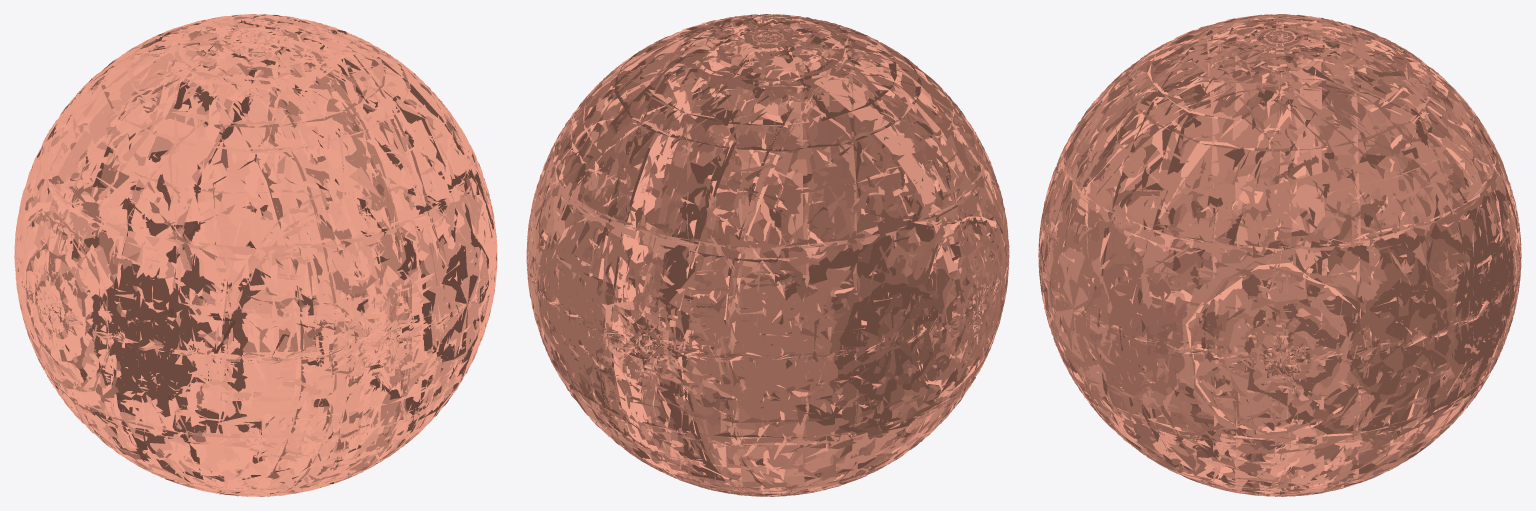
Rendered from sys-md-telecom.glb.
The picture shows the model from 3 angles, left to right: view 1: azimuth 30°, elevation 25°; view 2: azimuth 150°, elevation 25°; view 3: azimuth 270°, elevation 25°; orthographic projection.
Visible parts, largest first — view 1: TS-md-telecom-1707, TS-md-telecom-1706, TS-md-telecom-1708, TS-md-telecom-1704; view 2: TS-md-telecom-1707, TS-md-telecom-1706, TS-md-telecom-1704, TS-md-telecom-1708; view 3: TS-md-telecom-1707, TS-md-telecom-1706, TS-md-telecom-1704, TS-md-telecom-1708.
Part boxes in pixels (bbox=[...]): TS-md-telecom-1707: bbox=[14, 14, 497, 496]; TS-md-telecom-1706: bbox=[14, 17, 490, 488]; TS-md-telecom-1708: bbox=[27, 24, 494, 493]; TS-md-telecom-1704: bbox=[14, 28, 497, 406]; TS-md-telecom-1707: bbox=[526, 14, 1009, 496]; TS-md-telecom-1706: bbox=[528, 18, 1008, 487]; TS-md-telecom-1704: bbox=[527, 16, 1006, 493]; TS-md-telecom-1708: bbox=[544, 21, 996, 493]; TS-md-telecom-1707: bbox=[1038, 14, 1521, 496]; TS-md-telecom-1706: bbox=[1038, 17, 1521, 495]; TS-md-telecom-1704: bbox=[1038, 21, 1519, 447]; TS-md-telecom-1708: bbox=[1038, 20, 1521, 495].
Size of the model in its own units: 2 by 2 by 2.
